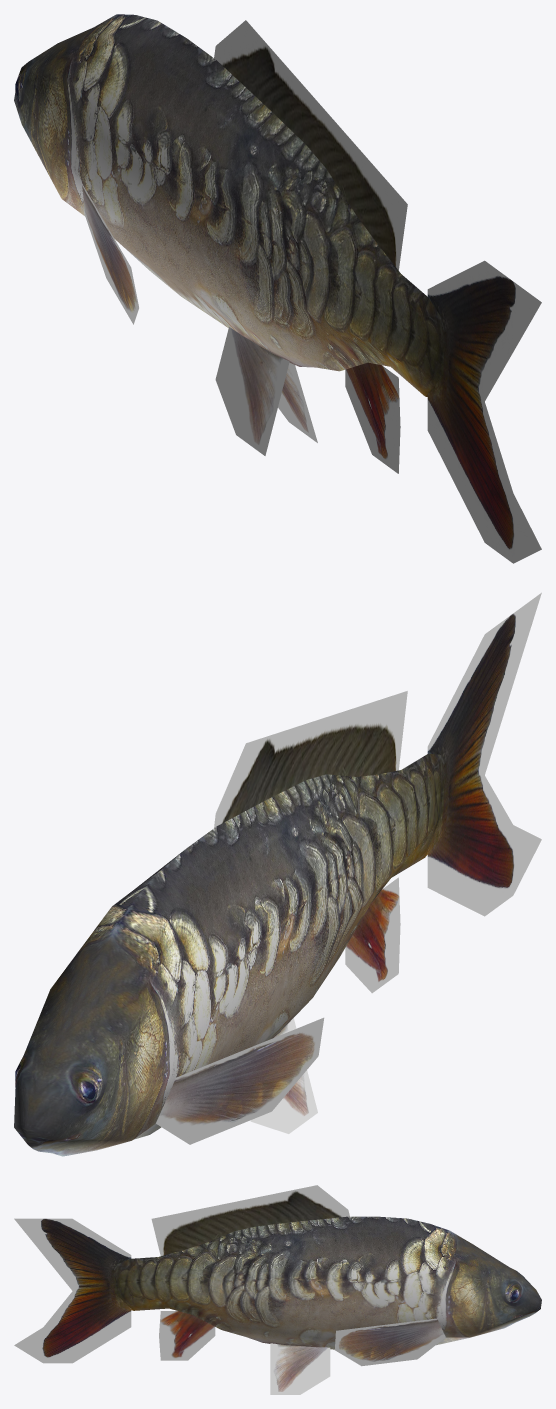
The model's file is carp.fbx.
The picture shows the model from 3 angles, top to bottom: view 1: azimuth 30°, elevation 25°; view 2: azimuth 150°, elevation 25°; view 3: azimuth 270°, elevation 25°; orthographic projection. The views are drawn at different scales.
Visible parts, largest first — view 1: Объект_Плоскость; view 2: Объект_Плоскость; view 3: Объект_Плоскость.
Part boxes in pixels (left/top/right/bottom): Объект_Плоскость: left=14, top=14, right=541, bottom=563; Объект_Плоскость: left=14, top=592, right=541, bottom=1156; Объект_Плоскость: left=14, top=1185, right=541, bottom=1394.
Bounding box in the file's own units: 392 × 769 × 1811.
1 material, 1 textured.
